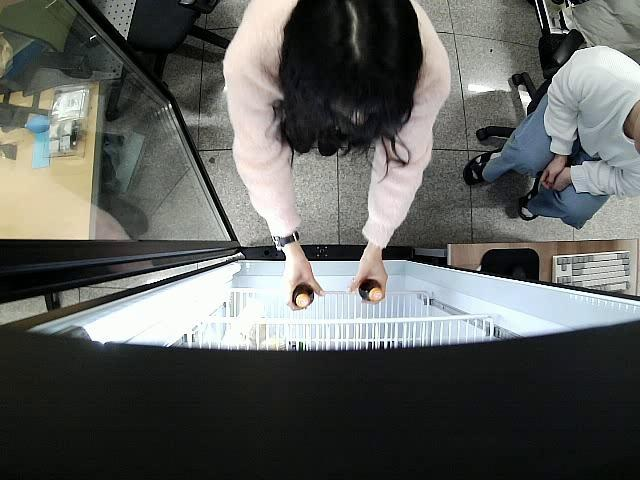17_vita500: (358, 278, 384, 303), (292, 284, 314, 309)
